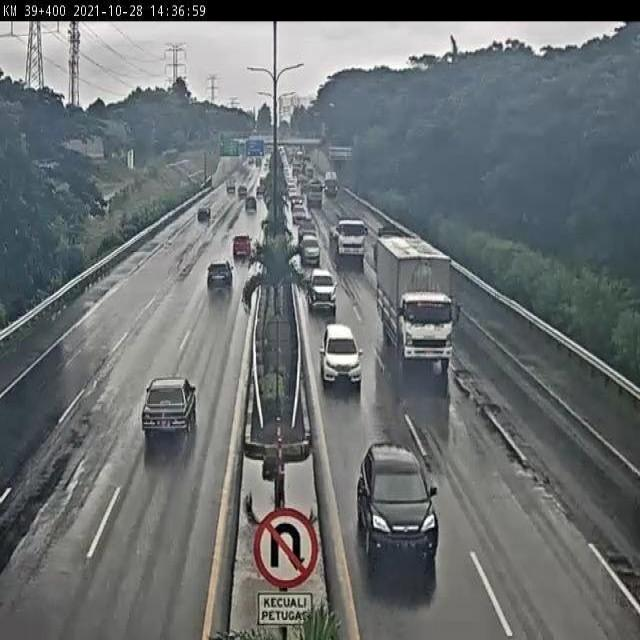big truck: (382, 241, 462, 367), (325, 223, 374, 265)
car: (365, 447, 440, 569), (319, 325, 360, 395), (151, 383, 193, 440), (302, 267, 339, 309), (206, 264, 242, 293), (233, 224, 257, 257), (308, 233, 323, 271)
